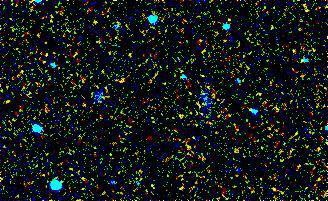star: (215, 6, 245, 36)
